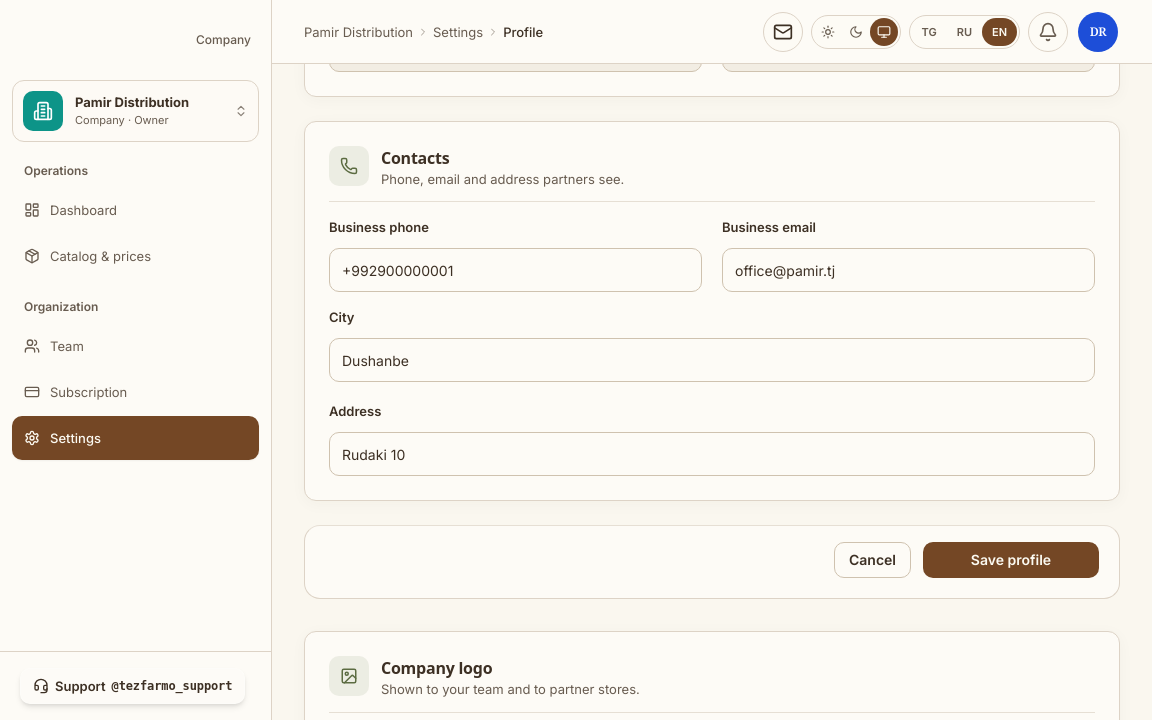
Test: organization profile (P02 §8 settings/profile) › explains a version conflict and reloads the latest profile
(page scrolled)
Replace the text in the field labelled "City" with "Khujand" at (712, 360), box [342, 339, 1082, 381]
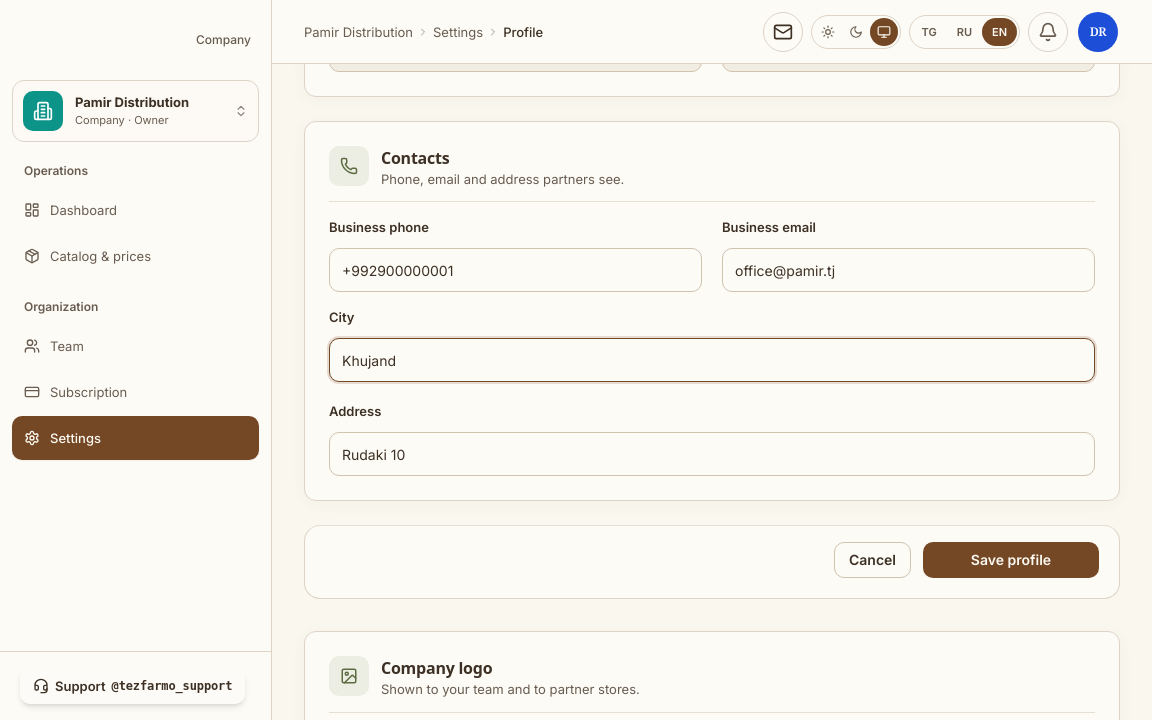
Click the button "Save profile" at (1011, 560), box [923, 542, 1099, 578]
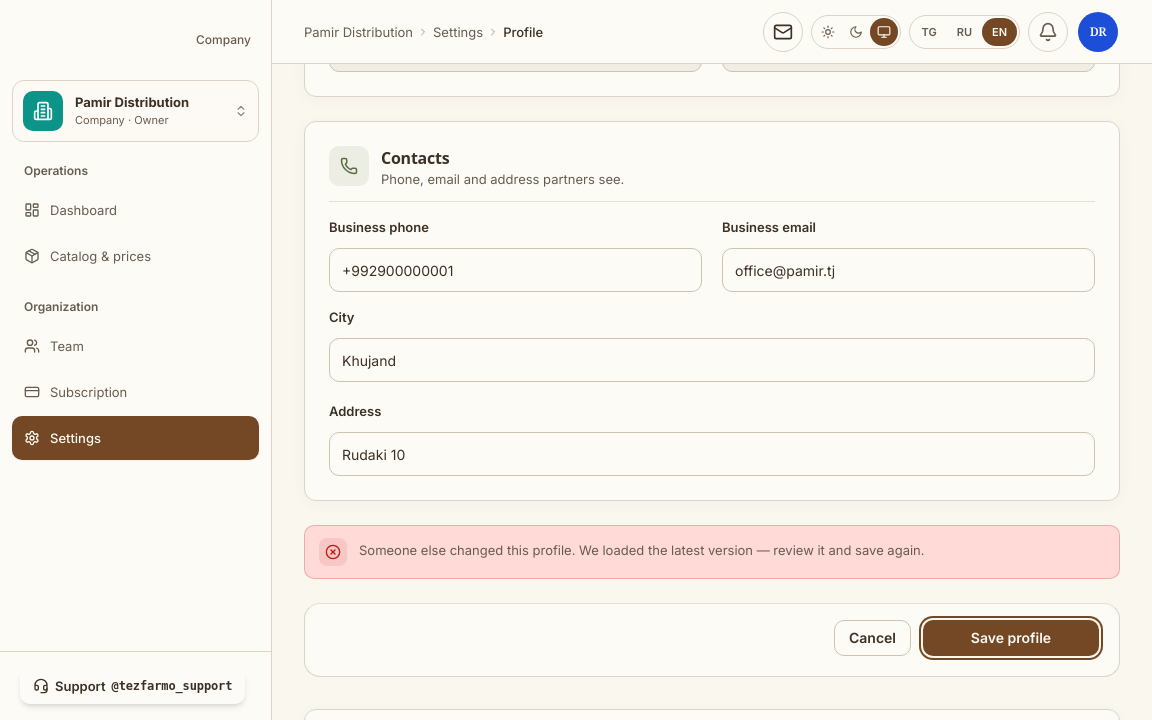
Check: the text "Someone else changed this profile" is shown, box [359, 542, 924, 558]
